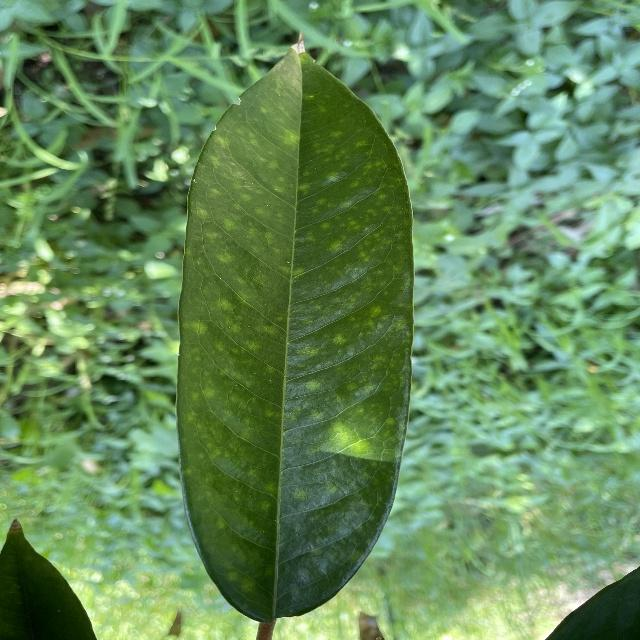Leaf Spot: (167, 35, 419, 631)
